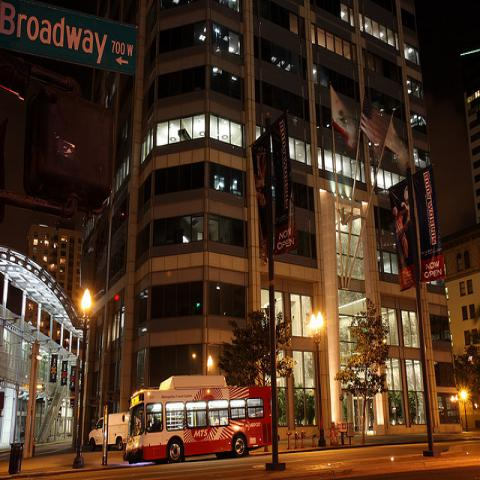bus: (128, 375, 269, 464)
truck: (88, 410, 131, 452)
